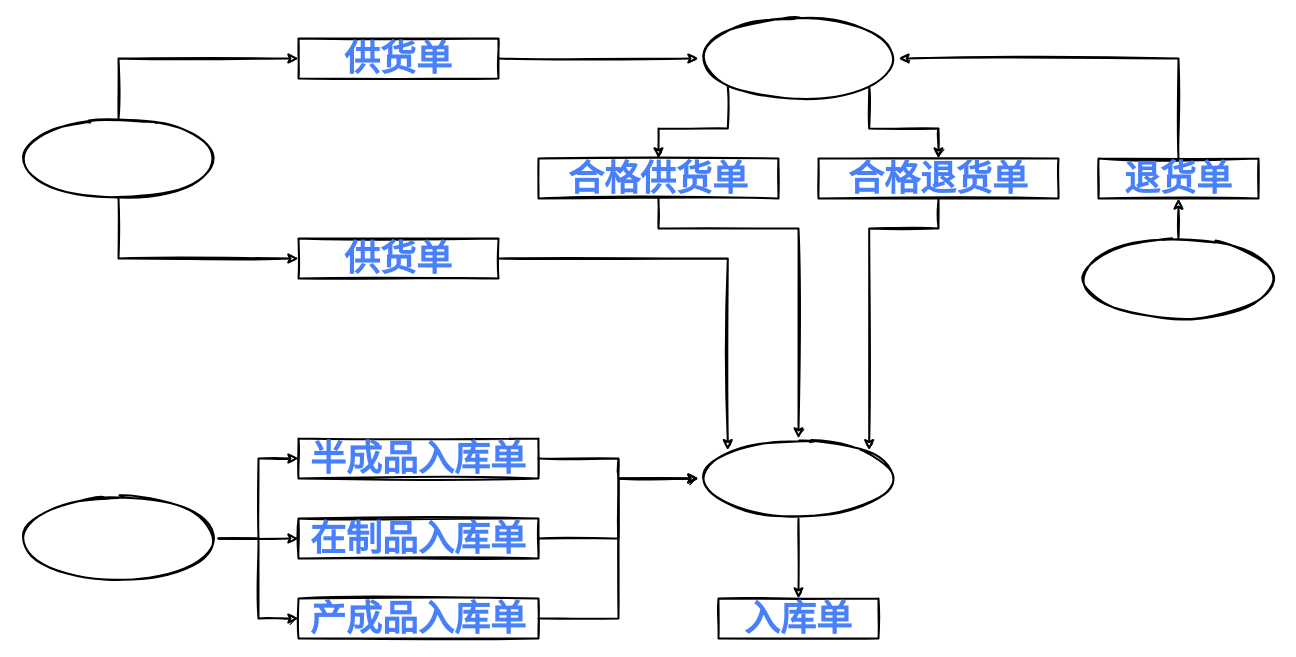
Some shapes in this 1296 by 657 pixel diagram are drawn without their labels. Here are the shapes that lost their labels. From the top down, the box of each, then its label:
(697, 17, 899, 99): 质检部门
(17, 117, 219, 199): 采购部门
(1077, 237, 1279, 319): 销售部门
(697, 437, 899, 519): 仓库保管员
(17, 497, 219, 579): 生产部门
